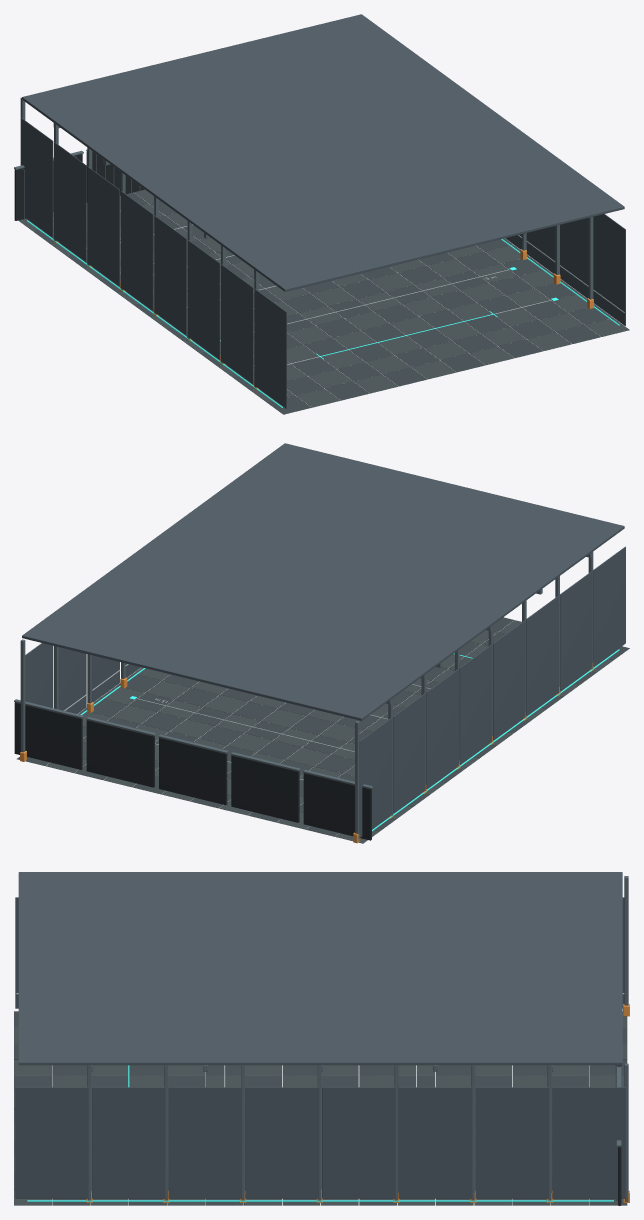
File: training_hall.glb
3 views of the same model, one above another, from view 1: azimuth 30°, elevation 25°; view 2: azimuth 150°, elevation 25°; view 3: azimuth 270°, elevation 25° (orthographic). The views are drawn at different scales.
Parts seen in each view (by area): view 1: Hall_Acoustic_Panels_Batch, Hall_Floor_A_Batch, Hall_Floor_B_Batch, Hall_Structural_Steel_Batch, Hall_Backstop_Rubber_Batch, Hall_Accent_Batch, Hall_Marking_White_Batch; view 2: Hall_Acoustic_Panels_Batch, Hall_Backstop_Rubber_Batch, Hall_Floor_A_Batch, Hall_Floor_B_Batch, Hall_Structural_Steel_Batch, Hall_Accent_Batch; view 3: Hall_Acoustic_Panels_Batch, Hall_Floor_B_Batch, Hall_Floor_A_Batch, Hall_Structural_Steel_Batch, Hall_Accent_Batch.
Boxes of the visible parts, x1,y1,x2,y2 form: Hall_Acoustic_Panels_Batch: (20,14,625,408); Hall_Floor_A_Batch: (33,192,612,414); Hall_Floor_B_Batch: (18,189,629,407); Hall_Structural_Steel_Batch: (14,97,593,387); Hall_Backstop_Rubber_Batch: (14,151,144,220); Hall_Accent_Batch: (27,220,619,407); Hall_Marking_White_Batch: (86,224,624,370); Hall_Acoustic_Panels_Batch: (22,443,625,837); Hall_Backstop_Rubber_Batch: (14,702,371,840); Hall_Floor_A_Batch: (17,617,629,836); Hall_Floor_B_Batch: (46,620,612,843); Hall_Structural_Steel_Batch: (14,552,593,841); Hall_Accent_Batch: (80,649,619,831); Hall_Acoustic_Panels_Batch: (15,872,625,1200); Hall_Floor_B_Batch: (14,1011,627,1205); Hall_Floor_A_Batch: (14,1011,627,1205); Hall_Structural_Steel_Batch: (87,876,628,1201); Hall_Accent_Batch: (27,1065,613,1201).
Bounding box in the file's own units: 24.7 × 8.14 × 32.12.
